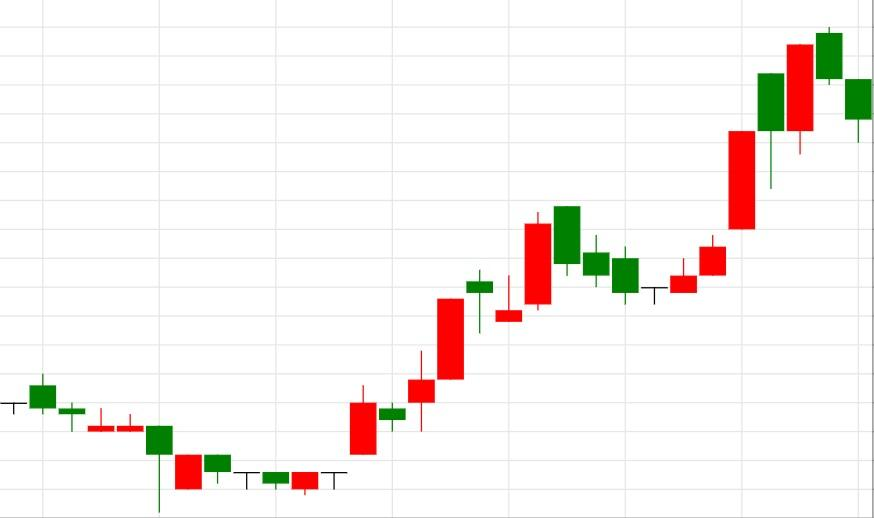three_white_soldiers_rise: (554, 131, 756, 304)
